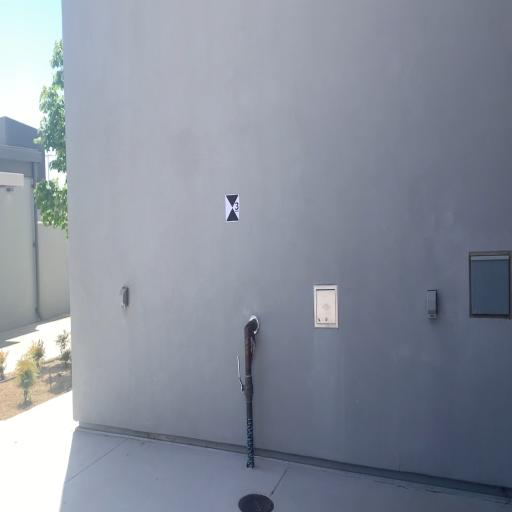target3: (225, 193, 240, 223)
